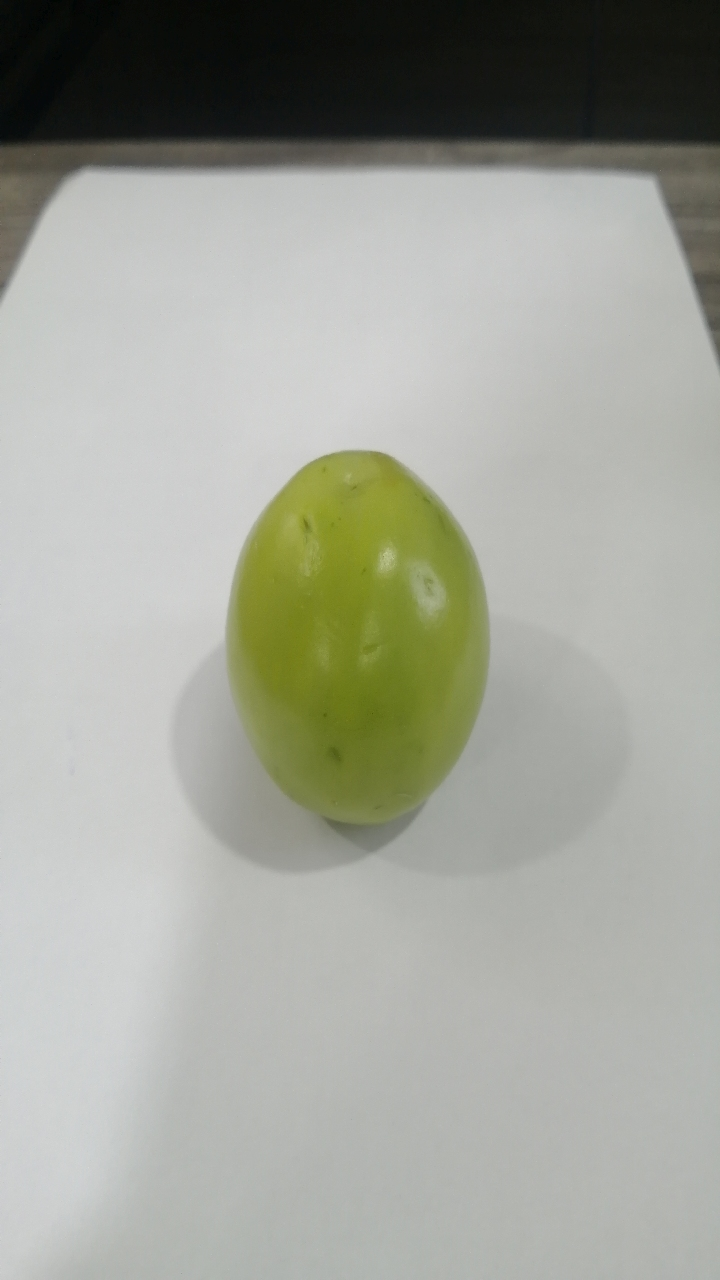tomateVerde: (180, 422, 515, 851)
